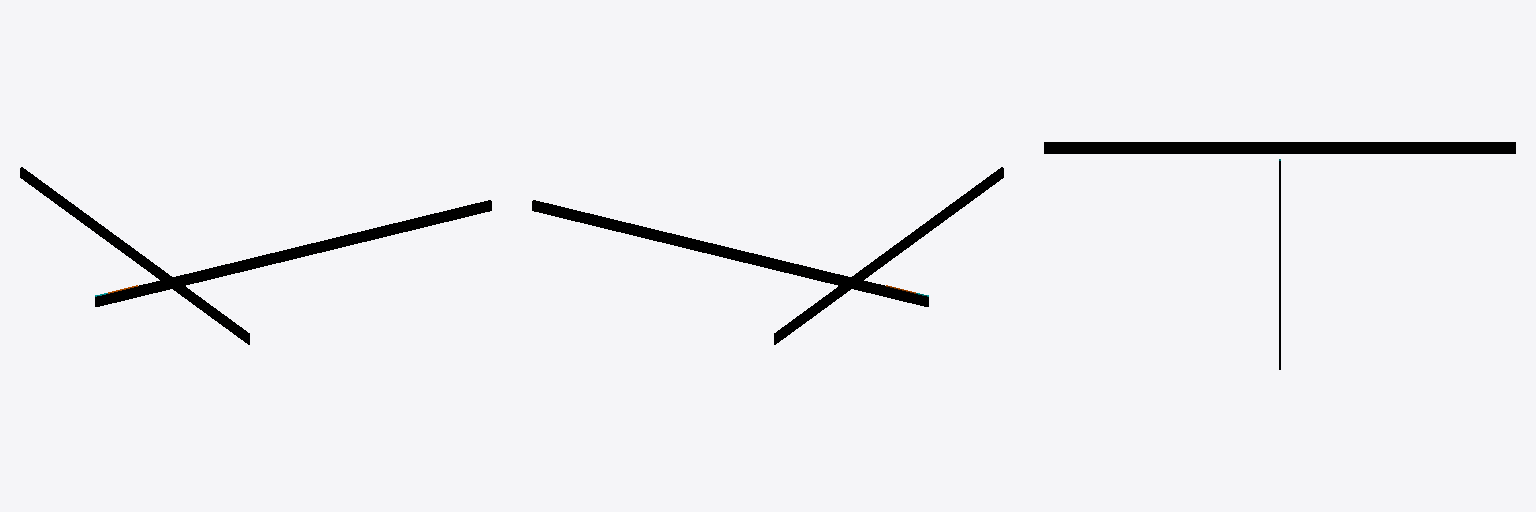
URDF robot description (obstacle):
<?xml version="1.0" ?>
<robot name="obstacle">
  <material name="black">
    <color rgba="1.0 1.0 1.0 1.0"/>
  </material>
  <material name="Aquamarine">
    <color rgba="0.364 0.733 0.608 1.0"/>
  </material>
  <material name="Aqua">
    <color rgba="0.0 0.733 0.733 1.0"/>
  </material>
  <material name="White">
    <color rgba="0.0 0.0 0.0 0.0"/>
  </material>

  <link name="world"/>
  <joint name="fixed" type="fixed">
    <parent link="world"/>
    <child link="base"/>
  </joint>


  <link name="base">
    <visual>
      <origin rpy="0 0 0" xyz="0.5 0 0.5"/>
      <geometry>
        <box size="0.025 5 0.125"/>
      </geometry>
      <material name="White"/>
    </visual>

    <visual>
      <origin rpy="0 0 0" xyz="2.5 0 0.0625"/>
      <geometry>
        <box size="5 0.025 0.125"/>
      </geometry>
      <material name="White"/>
    </visual>

    <inertial>
      <mass value="10"/>
      <inertia ixx="1.0" ixy="0.0" ixz="0.0" iyy="1.0" iyz="0.0" izz="1.0"/>
    </inertial>
  </link>

  <joint name="origin" type="fixed">
    <origin rpy="0 0 0" xyz="0 0 0.125"/>
    <parent link="base"/>
    <child link="origin_cylinder"/>
    <axis xyz="0 0 1"/>
  </joint>

  <link name="origin_cylinder">
    <visual>
      <origin rpy="0 0 0" xyz="0 0 0.00625"/>
      <geometry>
        <cylinder length="0.0125" radius="0.0125"/>
      </geometry>
      <material name="Aqua"/>
    </visual>
    <inertial>
      <mass value="3.0"/>
      <inertia ixx="0.00203125" ixy="0.0" ixz="0.0" iyy="0.00375000" iyz="0.0" izz="0.00203125"/>
    </inertial>
  </link>

  <joint name="joint1" type="revolute">
    <origin rpy="0 0 0" xyz="0 0.0 0.0"/>
    <parent link="origin_cylinder"/>
    <child link="link1"/>
    <axis xyz="0 0 1"/>
  </joint>

  <link name="link1">
    <visual>
      <origin rpy="0 0 0" xyz="0.0746 0 0.00625"/>
      <geometry>
        <box size="0.1492 0.01 0.0125"/>
      </geometry>
      <material name="Aqua"/>
    </visual>

    <collision>
      <origin rpy="0 0 0" xyz="0.0746 0 0.00625"/>
      <geometry>
        <box size="0.1492 0.01 0.0125"/>
      </geometry>
    </collision>

  </link>

  <joint name="fixedJoint_link1" type="fixed">
    <origin rpy="0 0 0" xyz="0.1492 0 0"/>
    <parent link="link1"/>
    <child link="point_mass_of_link1"/>
    <axis xyz="0 0 1"/>
  </joint>

  <link name="point_mass_of_link1">
    <visual>
      <origin rpy="0 0 0" xyz="-0.0001 0 0"/>
      <geometry>
        <box size="0.0001 0.0001 0.0001"/>
      </geometry>
      <material name="white"/>
    </visual>

    <inertial>
      <mass value="0.3"/>
      <!-- <inertia ixx="1.0" ixy="0.0" ixz="0.0" iyy="1.0" iyz="0.0" izz="1.0"/> -->
    </inertial>
  </link>

  <joint name="joint2" type="revolute">
    <origin rpy="0 0 0" xyz="0.1492 0 0"/>
    <parent link="link1"/>
    <child link="link2"/>
    <axis xyz="0 0 1"/>
  </joint>

  <link name="link2">
    <visual>
      <origin rpy="0 0 0" xyz="0.1905 0 0.00625"/>
      <geometry>
        <box size="0.381 0.01 0.0125"/>
      </geometry>
      <material name="white"/>
    </visual>

    <collision>
      <origin rpy="0 0 0" xyz="0.1905 0 0.00625"/>
      <geometry>
        <box size="0.381 0.01 0.0125"/>
      </geometry>
    </collision>

  </link>

  <joint name="fixedJoint_link2" type="fixed">
    <origin rpy="0 0 0" xyz="0.381 0 0"/>
    <parent link="link2"/>
    <child link="point_mass_of_link2"/>
    <axis xyz="0 0 1"/>
  </joint>

  <link name="point_mass_of_link2">
    <visual>
      <origin rpy="0 0 0" xyz="-0.0005 0 0"/>
      <geometry>
        <box size="0.001 0.001 0.001"/>
      </geometry>
      <material name="white"/>
    </visual>

    <inertial>
      <mass value="0.05"/>
      <!-- <inertia ixx="1.0" ixy="0.0" ixz="0.0" iyy="1.0" iyz="0.0" izz="1.0"/> -->
    </inertial>
  </link>

</robot>

--- What the picture shows (computed from the rendered views, not written in the file) ---
3 views of the same robot in one strip: view 1: azimuth 30°, elevation 25°; view 2: azimuth 150°, elevation 25°; view 3: azimuth 270°, elevation 25° (orthographic).
Model obstacle with 7 links and 6 joints (2 revolute, 4 fixed), rooted at world, posed all joints at 0.
Visible links, largest first — view 1: base; view 2: base; view 3: base.
Link boxes in pixels (<box>): base: <box>20,167,491,344</box>; base: <box>532,167,1003,344</box>; base: <box>1044,142,1515,369</box>.
Bounding box of the posed robot: 5.01 × 5 × 0.5625 m (x, y, z).
Geometry: primitives only (box / cylinder / sphere), no mesh files.
